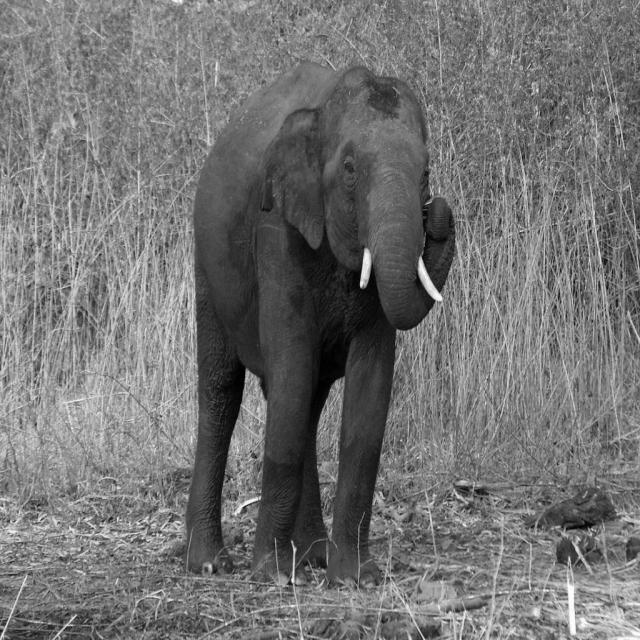Elephant: (184, 60, 456, 589)
